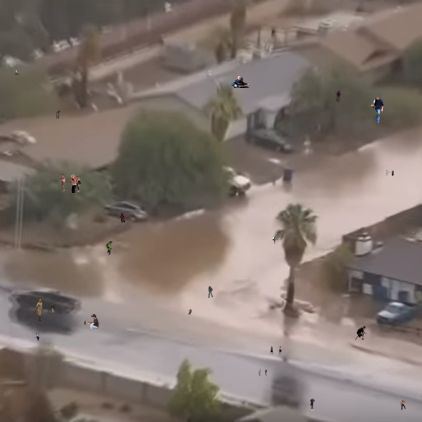Human: (34, 298, 55, 321), (59, 174, 81, 193), (370, 97, 384, 123), (105, 213, 133, 223), (231, 76, 250, 88), (87, 314, 99, 329), (355, 326, 366, 341), (270, 346, 282, 356), (106, 241, 113, 256), (310, 398, 315, 411), (258, 369, 267, 376), (400, 400, 406, 410), (336, 90, 341, 102), (208, 286, 213, 298), (385, 170, 394, 176), (272, 235, 278, 244), (56, 109, 60, 119), (36, 332, 40, 342), (15, 69, 19, 76), (188, 309, 192, 315), (84, 320, 86, 327), (413, 230, 415, 235), (211, 117, 214, 120)
